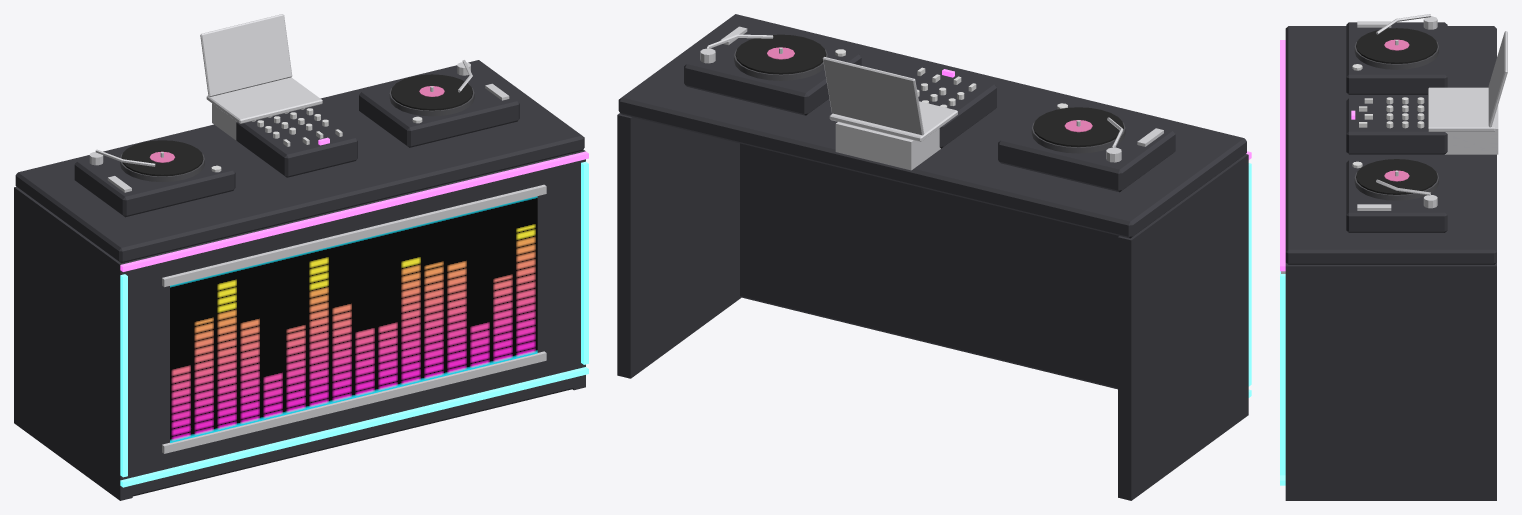
File: prop_dj_booth.glb
3 renders of one model, left to right at view 1: azimuth 30°, elevation 25°; view 2: azimuth 150°, elevation 25°; view 3: azimuth 270°, elevation 25°, orthographic. The views are drawn at different scales.
Visible parts, largest first — view 1: DJBooth; view 2: DJBooth; view 3: DJBooth.
Part boxes in pixels (x1,y1,x2,y2): DJBooth: (14,14,588,500); DJBooth: (617,14,1251,500); DJBooth: (1280,14,1507,500).
Bounding box in the file's own units: 1.9 × 1.32 × 0.8095.
Materials: 9 (1 with a texture image).
